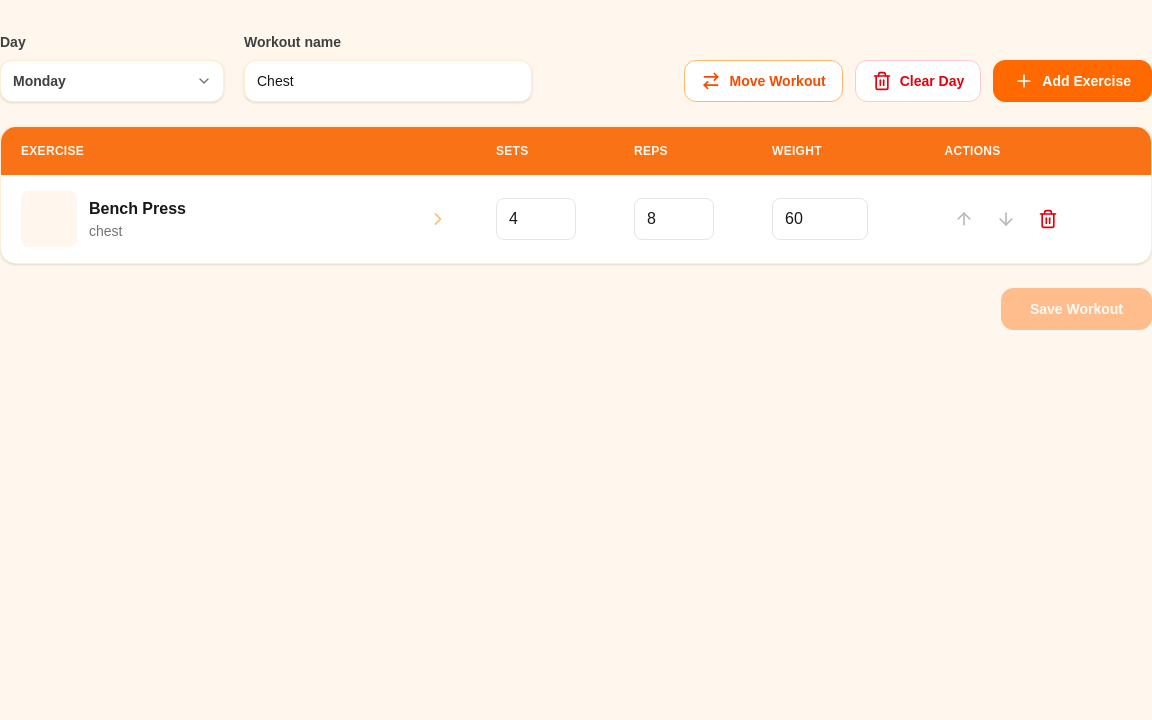
WorkoutBuilder persisted actions › moves a persisted workout and switches to the target day
This screenshot has width=1152, height=720.
Expected: the text "Bench Press" is shown, [89, 200, 186, 217]
Click the button "Move Workout" at (764, 81), box [684, 60, 843, 102]
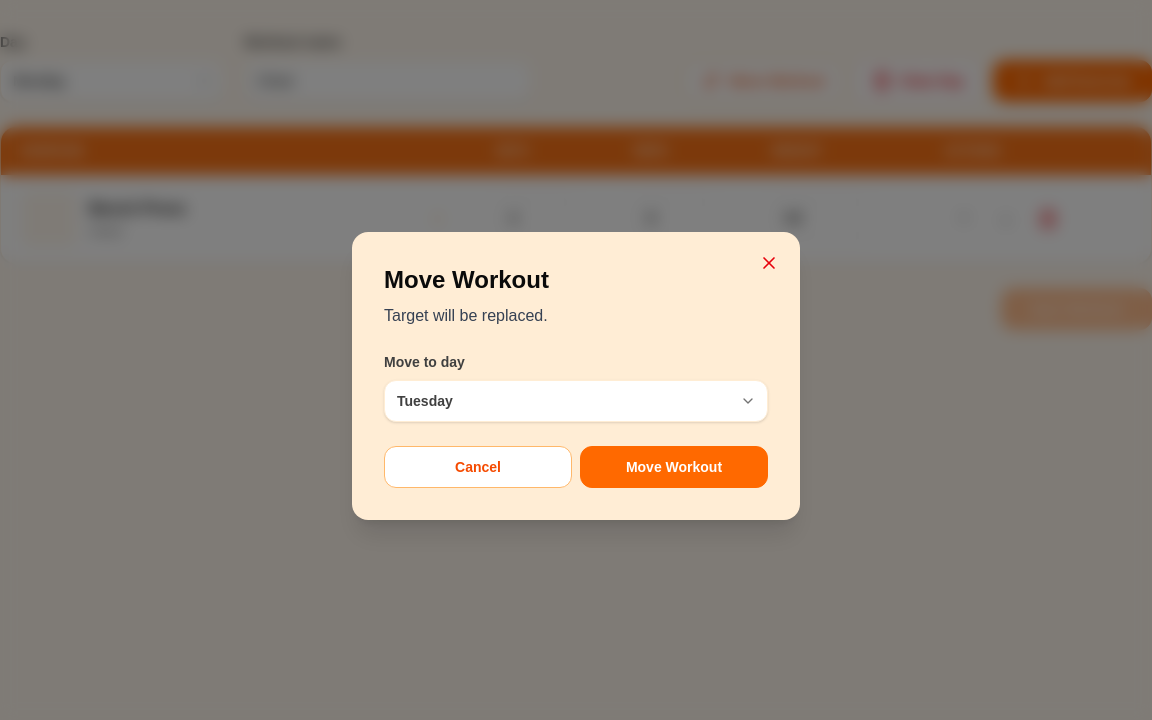
Click the button "Move Workout" at (674, 467), box [580, 446, 768, 488]
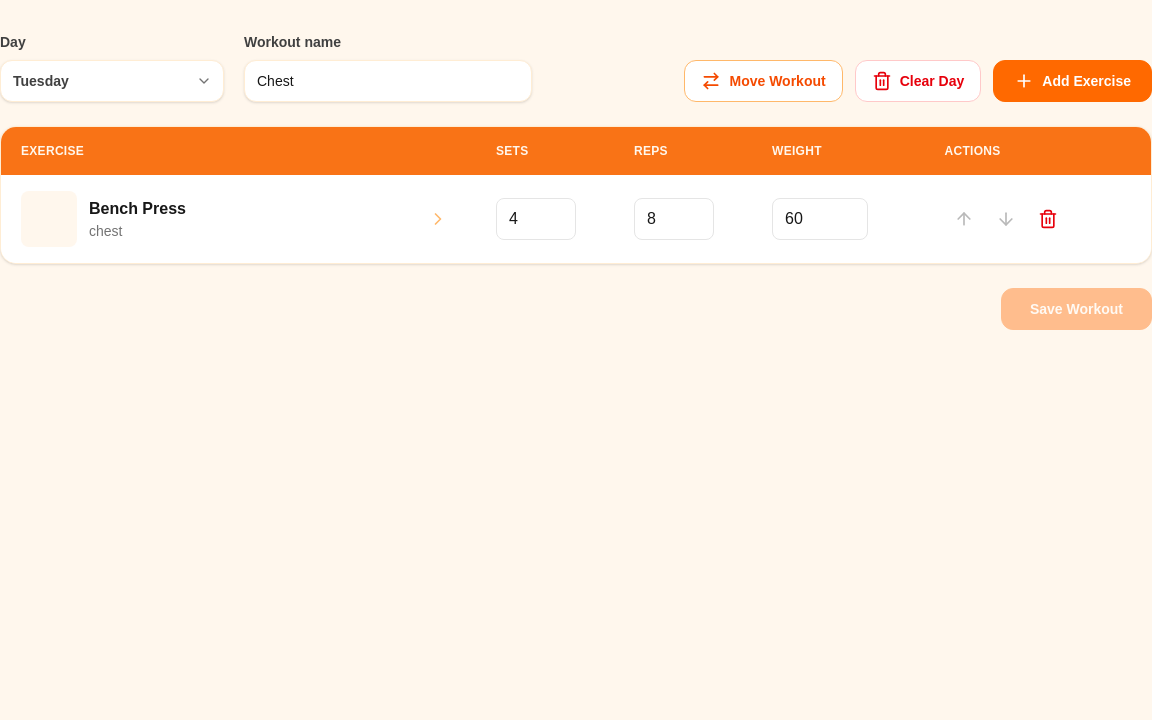
Now the dropdown labelled "Day" shows "Tuesday", box [0, 60, 224, 102]
